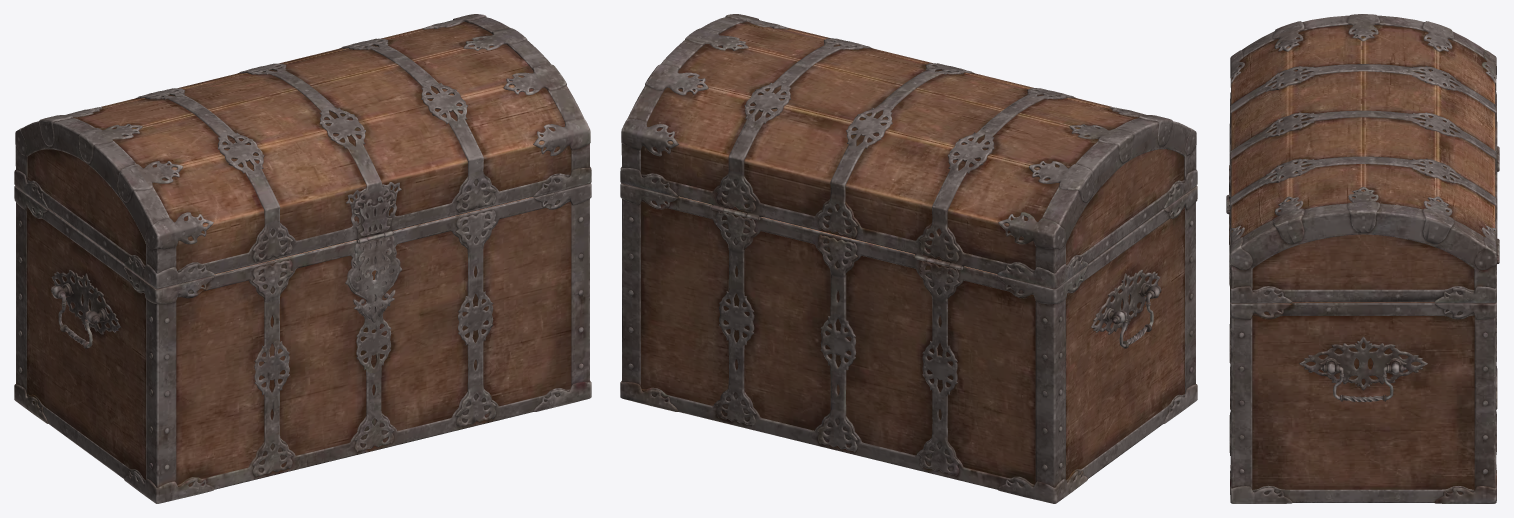
Rendered from treasure_chest.glb.
The picture shows the model from 3 angles, left to right: view 1: azimuth 30°, elevation 25°; view 2: azimuth 150°, elevation 25°; view 3: azimuth 270°, elevation 25°; orthographic projection. The views are drawn at different scales.
Visible parts, largest first — view 1: treasure_chest_bottom; view 2: treasure_chest_bottom; view 3: treasure_chest_bottom.
Boxes of the visible parts, x1,y1,x2,y2 form: treasure_chest_bottom: (14, 14, 591, 503); treasure_chest_bottom: (620, 14, 1197, 503); treasure_chest_bottom: (1226, 14, 1499, 503).
Bounding box in the file's own units: 0.959 × 0.619 × 0.5229.
1 material, 1 textured.
